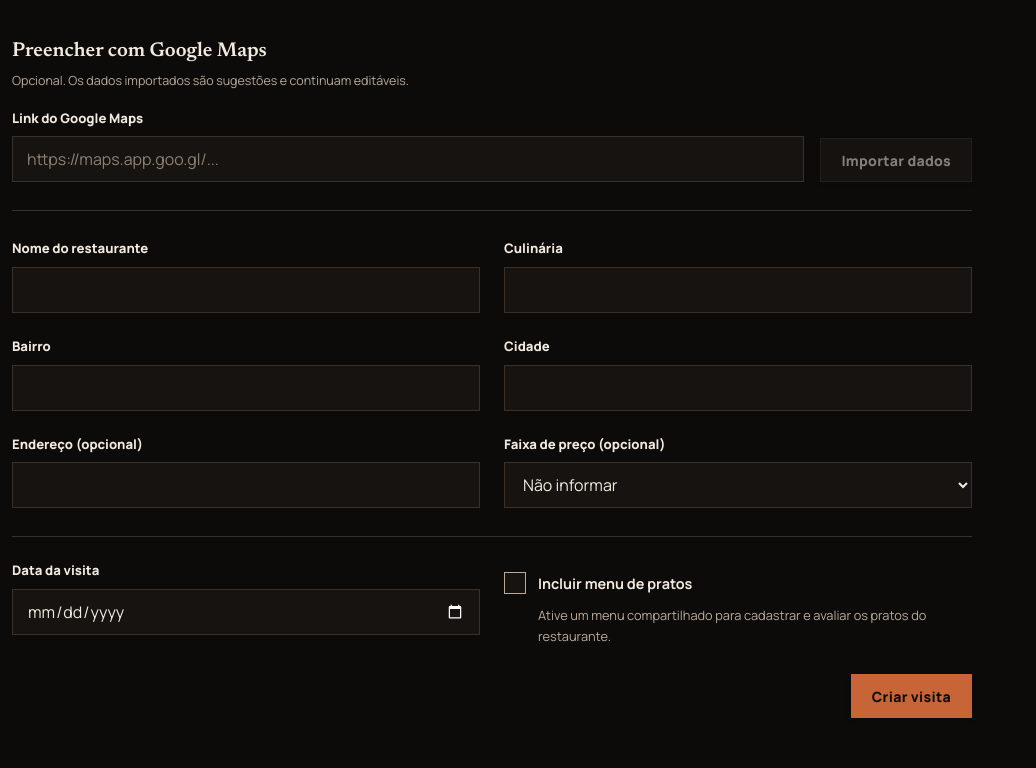
Test: criação manual de visita › preserva todos os campos e mostra erro genérico quando a criação falha
Type "Mesa Persistente" into the field labelled "Nome do restaurante" at (246, 290), box [12,267,480,313]
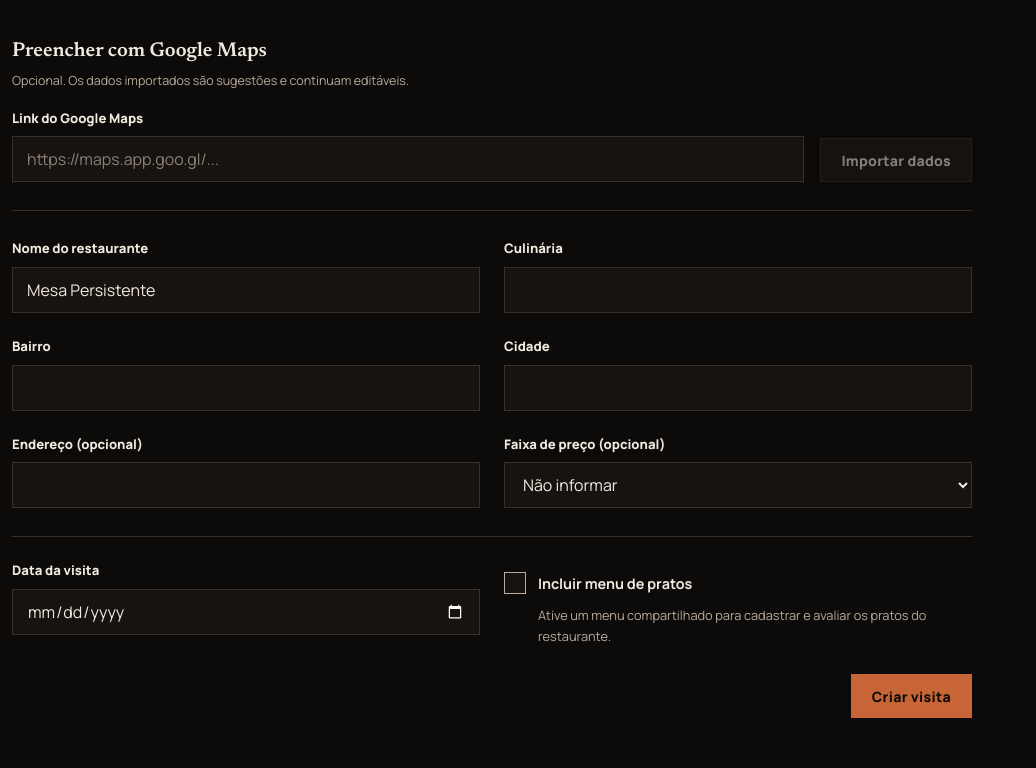
Type "Italiana" into the field labelled "Culinária" at (738, 290), box [504,267,972,313]
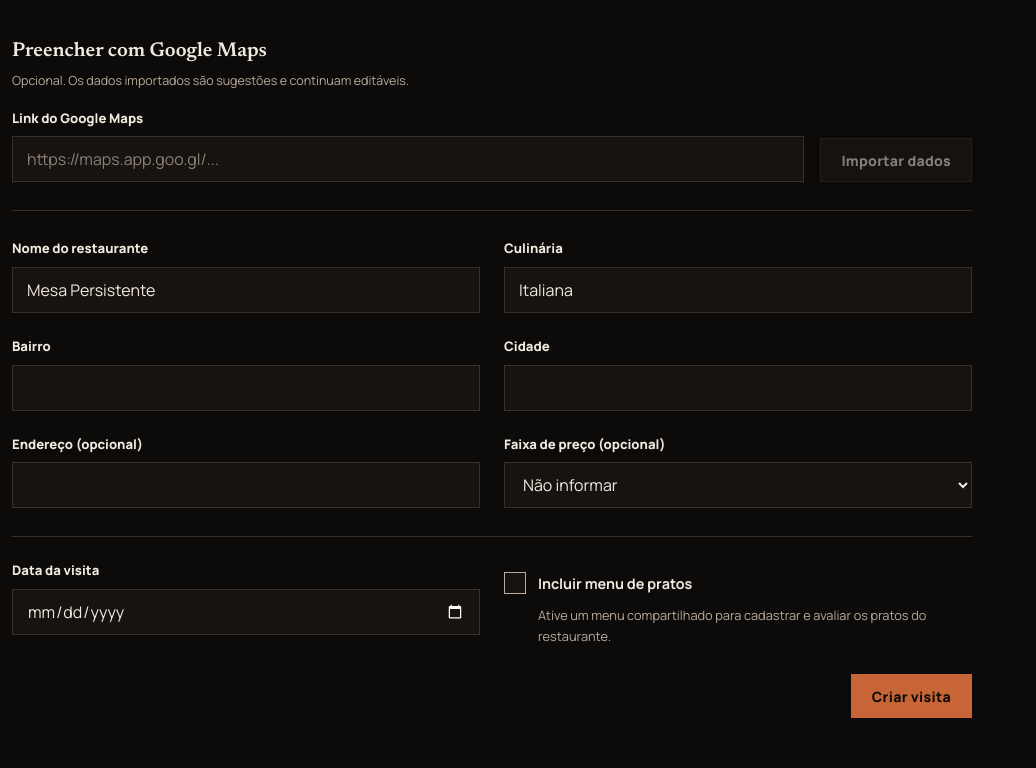
Type "Pinheiros" into the field labelled "Bairro" at (246, 388), box [12,365,480,411]
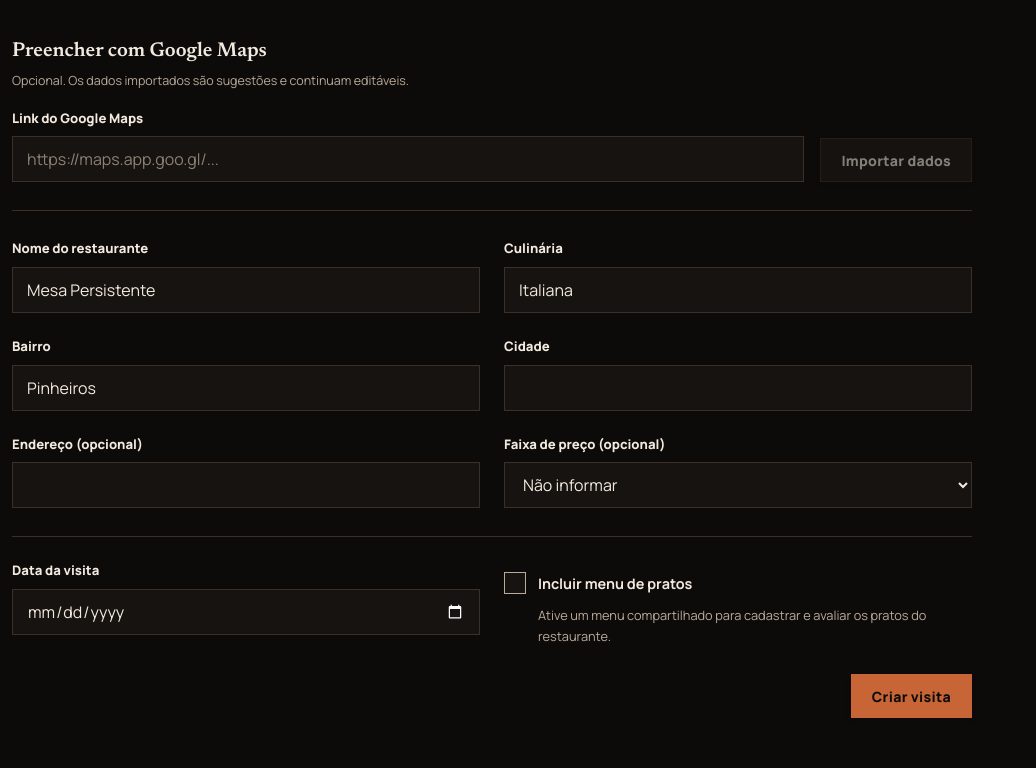
Type "São Paulo" into the field labelled "Cidade" at (738, 388), box [504,365,972,411]
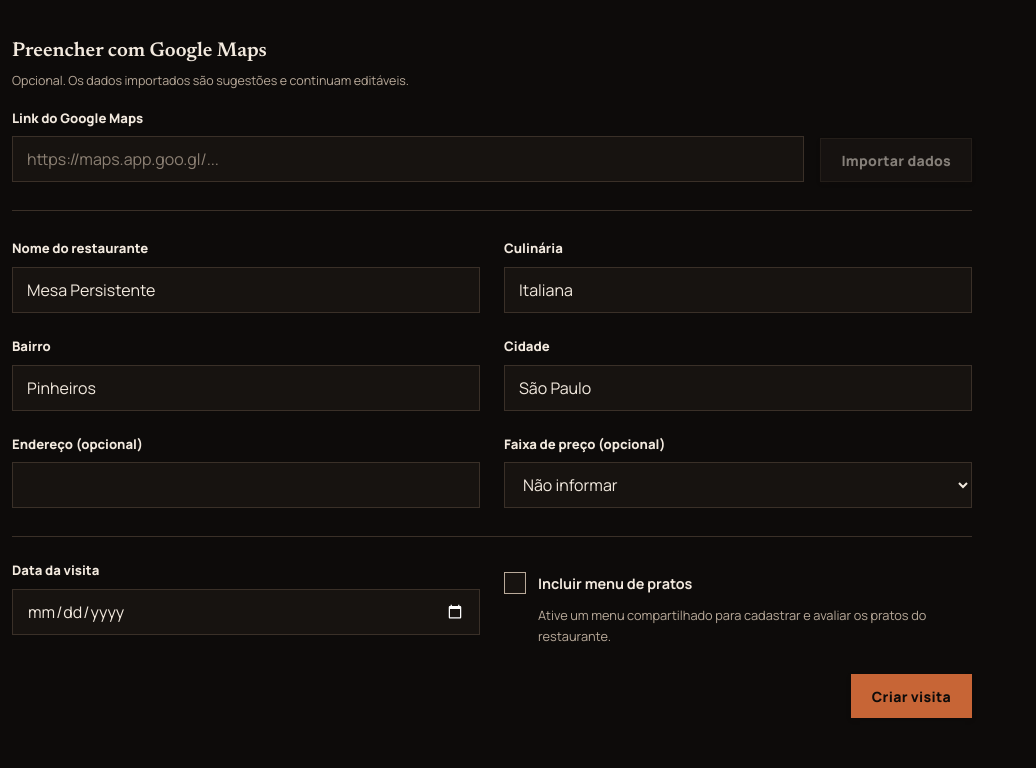
Type "2026-08-11" into the date field labelled "Data da visita" at (246, 612), box [12,589,480,635]
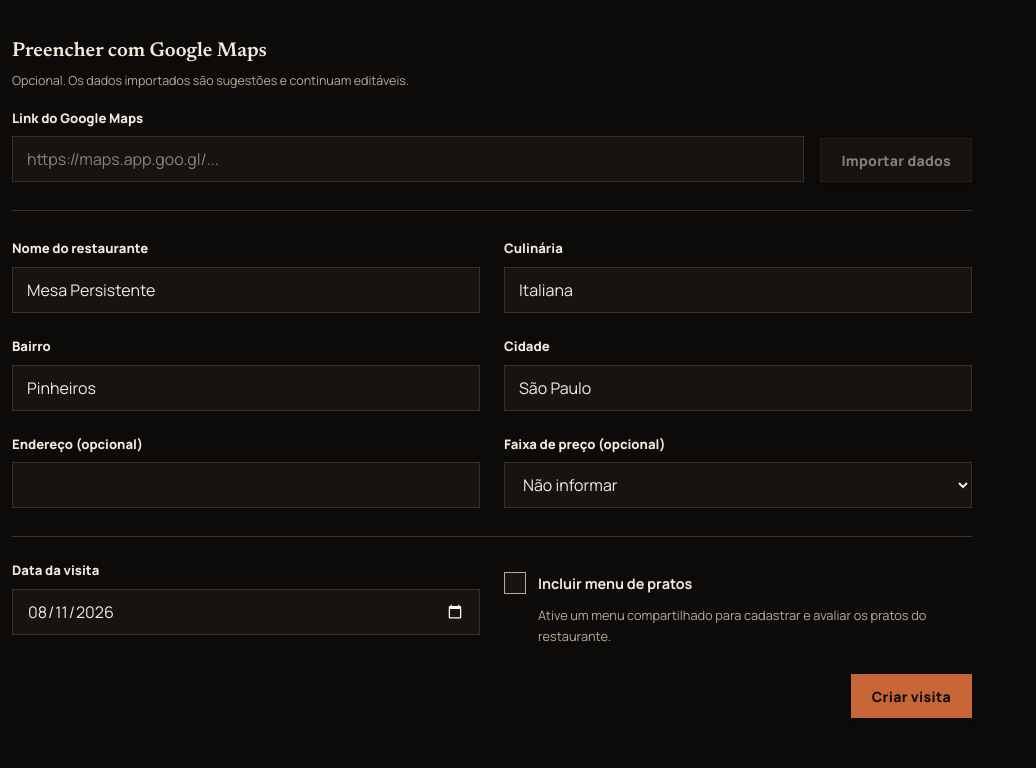
Click the button "Criar visita" at (911, 696), box [851,674,972,718]
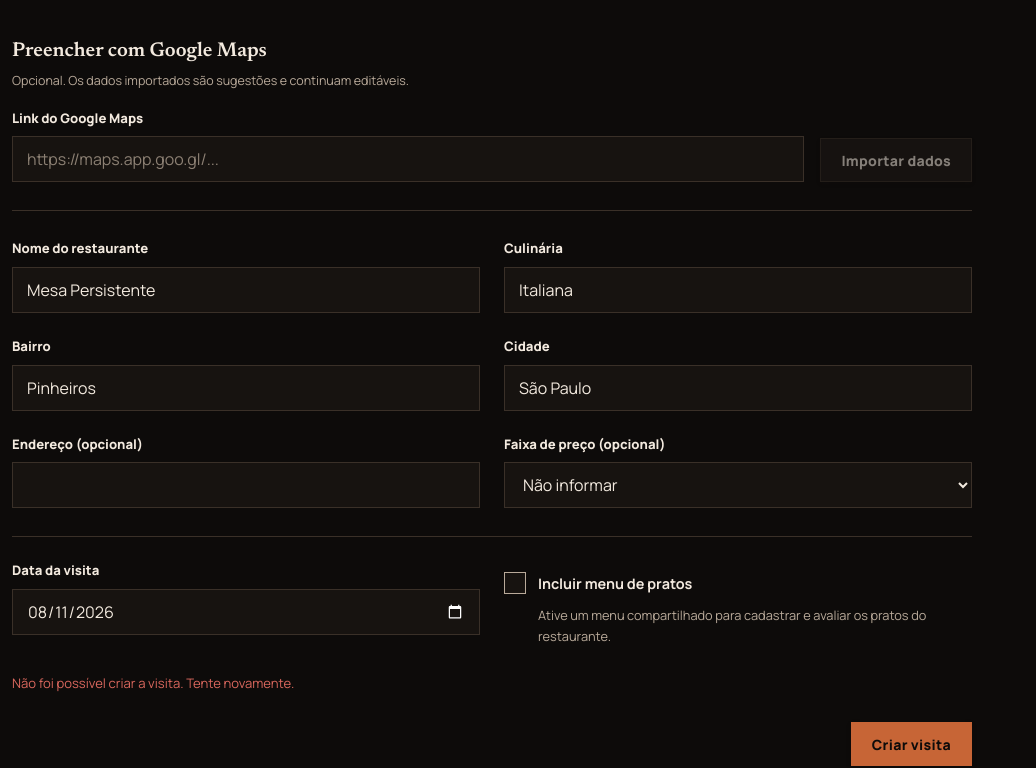
Expected: the message reads "Não foi possível criar a visita. Tente novamente.", [12,674,294,692]
